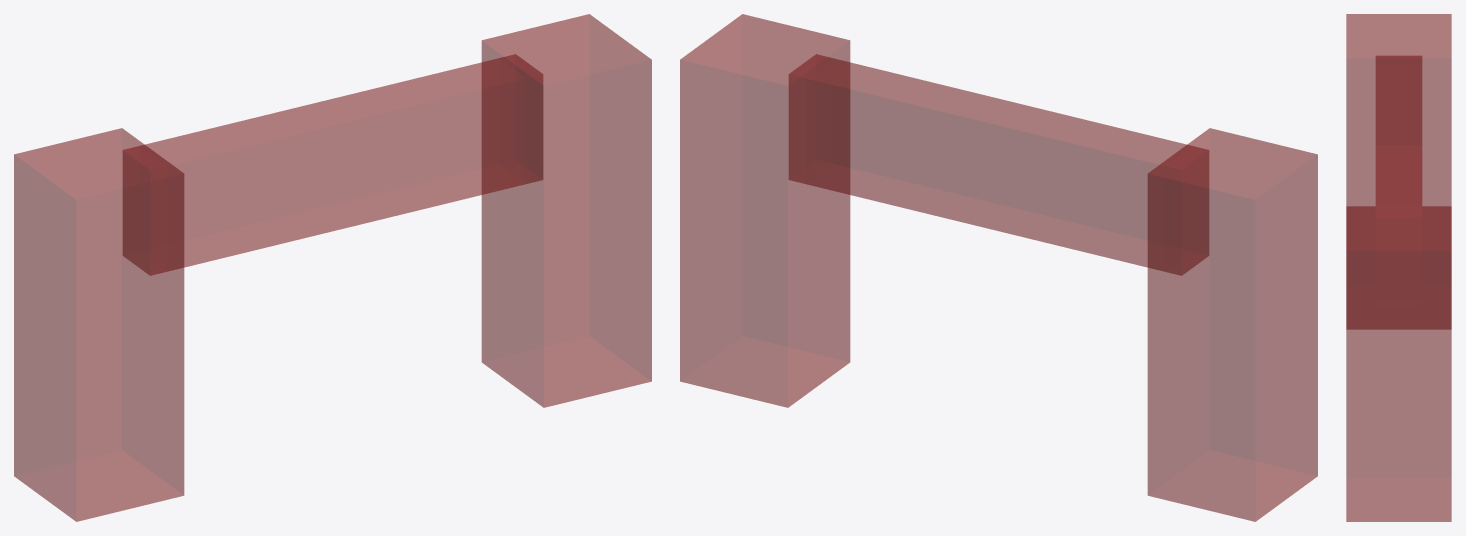
File: SM_Prop_Gantry_07_Collision.fbx
3 views of the same model, side by side, from view 1: azimuth 30°, elevation 25°; view 2: azimuth 150°, elevation 25°; view 3: azimuth 270°, elevation 25° (orthographic). The views are drawn at different scales.
Visible parts, largest first — view 1: SM_Prop_Gantry_07_Collision; view 2: SM_Prop_Gantry_07_Collision; view 3: SM_Prop_Gantry_07_Collision.
Boxes of the visible parts, left/top/right/bottom form: SM_Prop_Gantry_07_Collision: left=14, top=14, right=651, bottom=521; SM_Prop_Gantry_07_Collision: left=680, top=14, right=1317, bottom=521; SM_Prop_Gantry_07_Collision: left=1346, top=14, right=1451, bottom=521.
Bounding box in the file's own units: 785 × 420 × 147.
